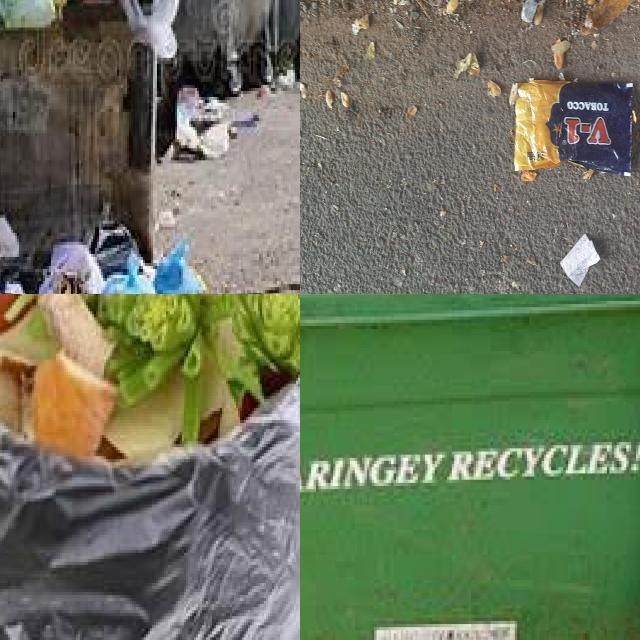Background: (300, 0, 640, 294)
Garbage: (0, 294, 300, 459)
Plastic_Bag: (120, 0, 180, 58)
Plastic_wraper: (515, 81, 632, 175)
